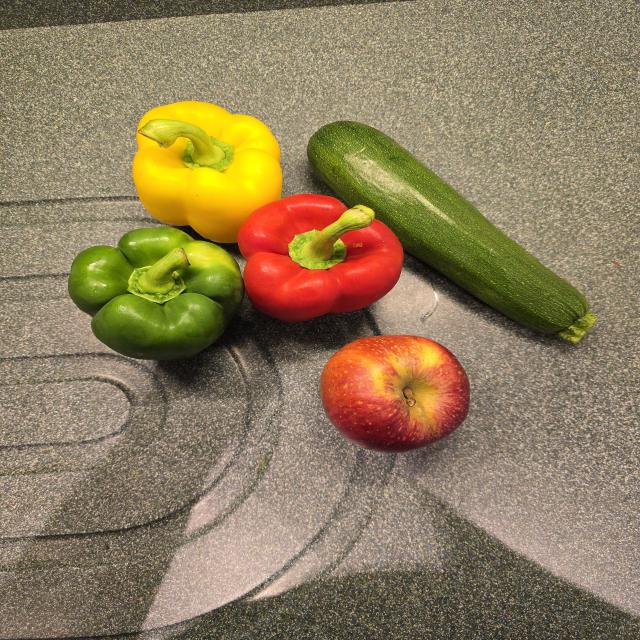Apple: (321, 335, 469, 451)
Bell Pepper: (69, 227, 245, 361), (132, 101, 282, 242), (237, 194, 403, 321)
Courgette: (307, 121, 594, 342)
